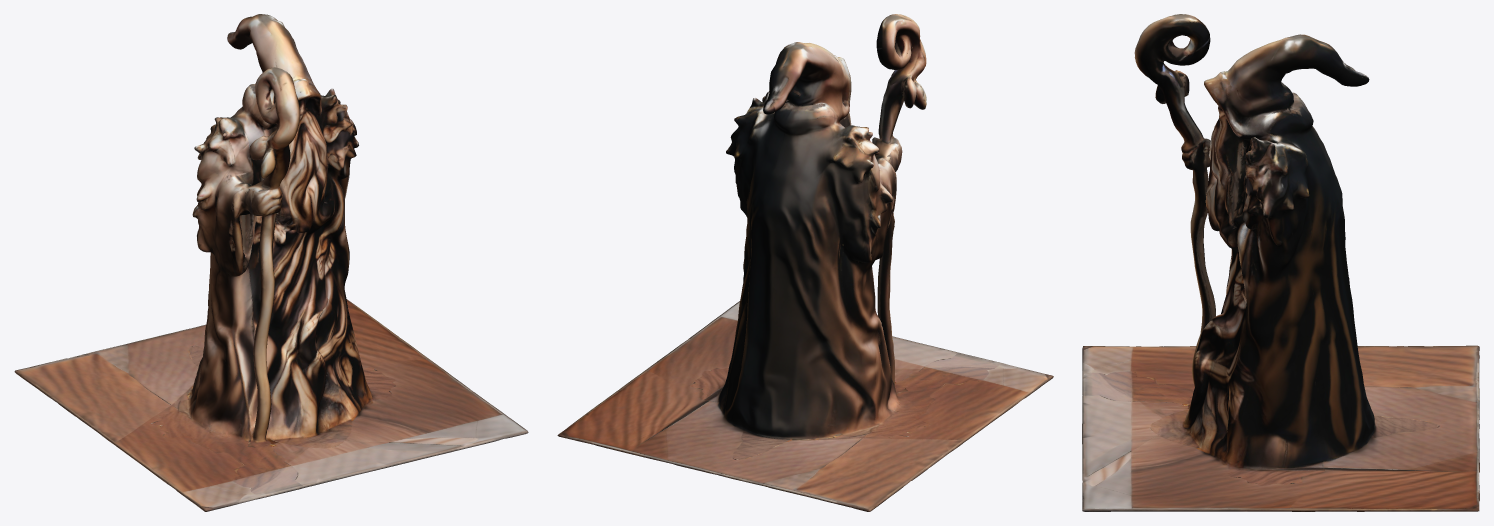
Rendered from Forest_Guardian_Mage_1105015557.fbx.
3 renders of one model, left to right at view 1: azimuth 30°, elevation 25°; view 2: azimuth 150°, elevation 25°; view 3: azimuth 270°, elevation 25°, orthographic. The views are drawn at different scales.
Parts seen in each view (by area): view 1: Mesh_0; view 2: Mesh_0; view 3: Mesh_0.
Part boxes in pixels (x1,y1,x2,y2): Mesh_0: (14,14,528,511); Mesh_0: (557,14,1053,511); Mesh_0: (1082,14,1479,511).
Size of the model in its own units: 178 by 200 by 182.
Materials: 1 (1 with a texture image).
